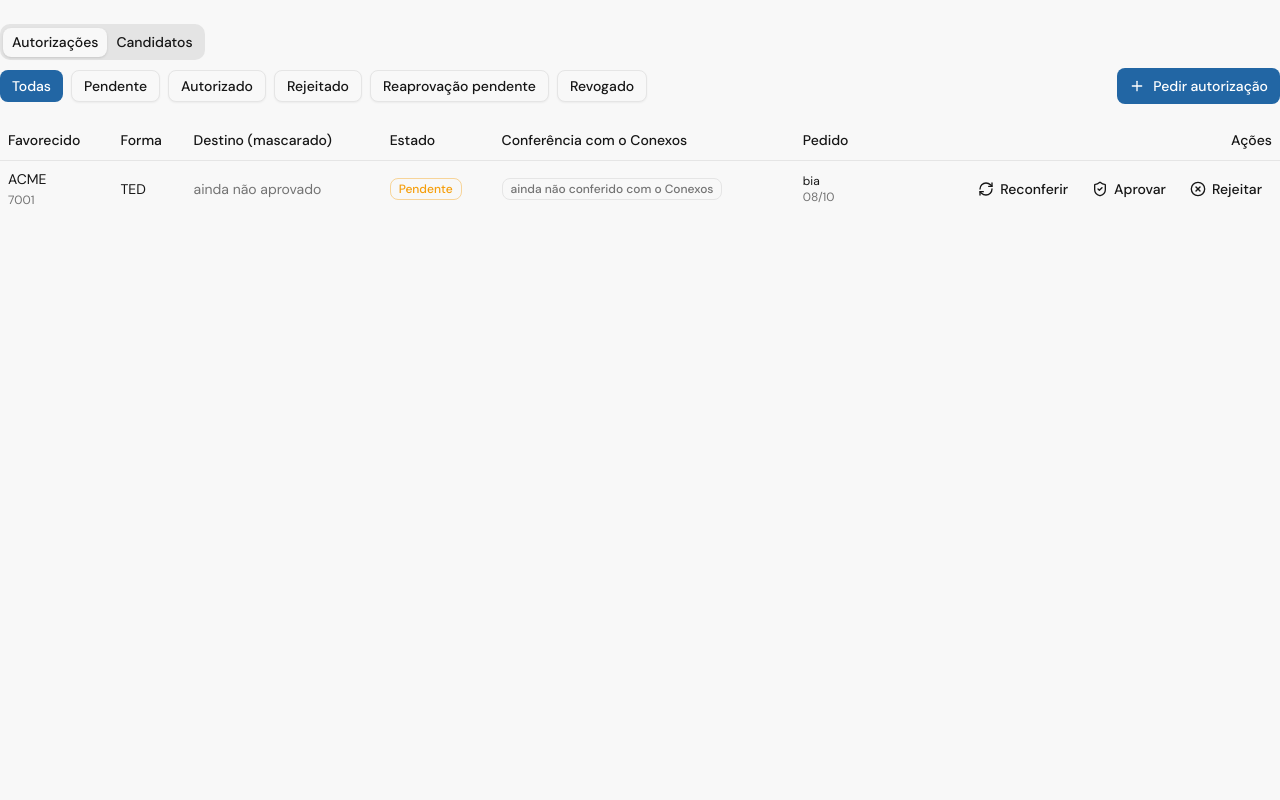
/sispag/favorecidos-autorizados › quem pediu vê Aprovar desabilitado com a razão (o backend continua sendo a guarda)
This screenshot has width=1280, height=800.
Click the button with aria-label "ver autorização TED de ACME" at [1129, 188], box x1=1082 y1=172 x2=1176 y2=204
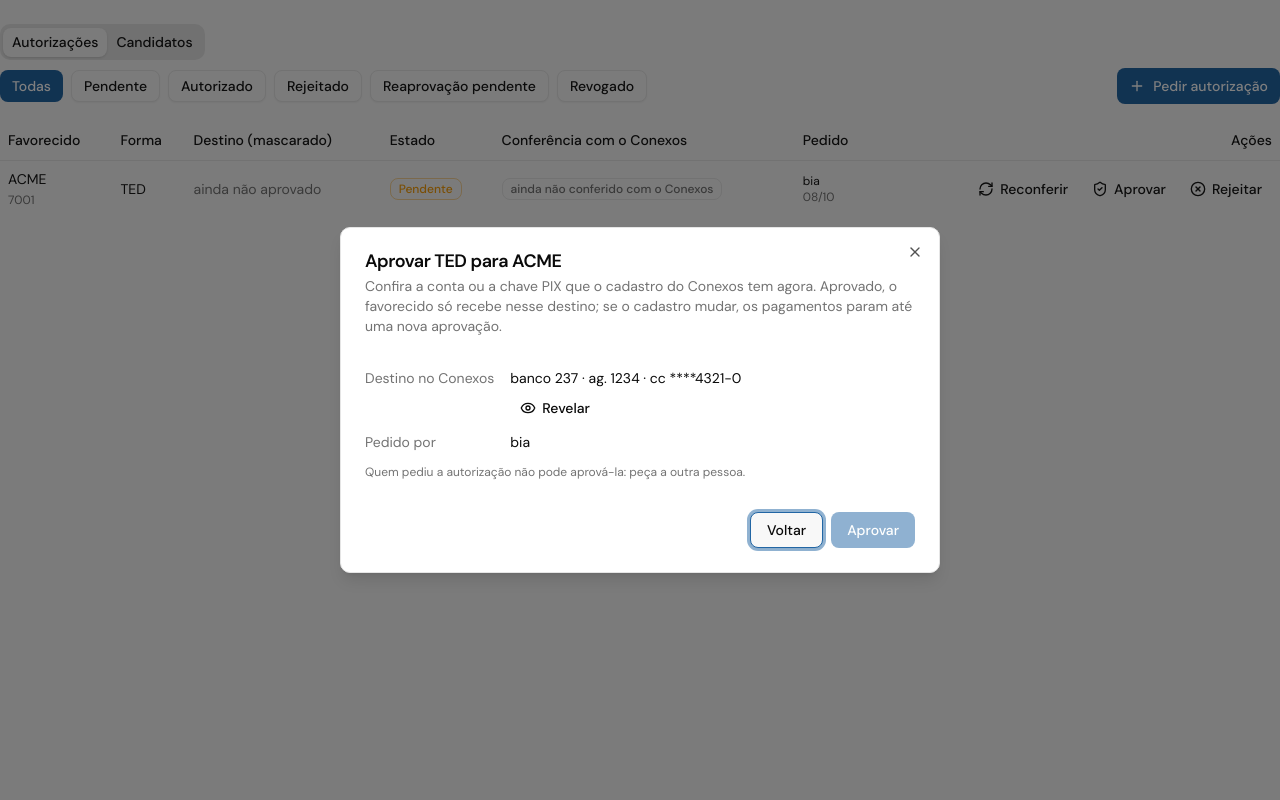
expect the button "Aprovar" is disabled: met, box x1=831 y1=512 x2=915 y2=548
expect the text "Quem pediu a autorização não pode aprová-la" is shown: met, box x1=365 y1=464 x2=745 y2=480
